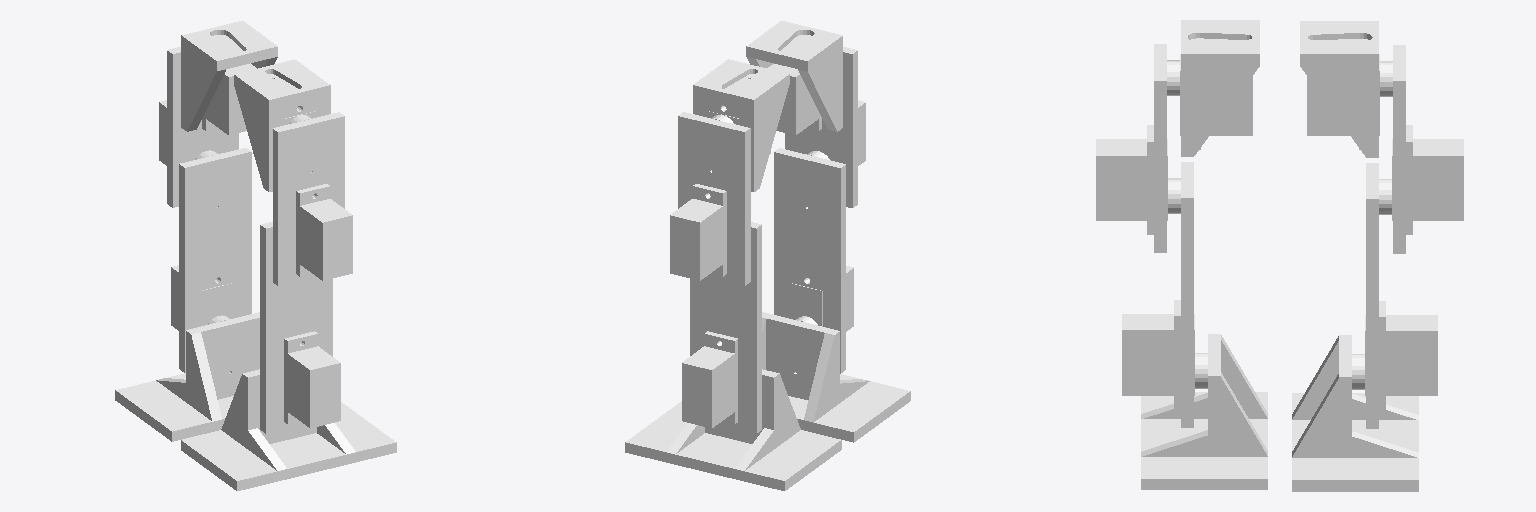
URDF robot description (2foot):
<?xml version="1.0" encoding="utf-8"?>
<!-- This URDF was automatically created by SolidWorks to URDF Exporter! Originally created by Stephen Brawner (brawner@gmail.com) 
     Commit Version: 1.6.0-4-g7f85cfe  Build Version: 1.6.7995.38578
     For more information, please see http://wiki.ros.org/sw_urdf_exporter -->
<robot
  name="2foot">
  <link
    name="head_link">
    <inertial>
      <origin
        xyz="0.00637927718522201 8.36838553548436E-05 0.0502679117290854"
        rpy="0 0 0" />
      <mass
        value="0.104147639434427" />
      <inertia
        ixx="0.000119888626287878"
        ixy="4.26649795023379E-08"
        ixz="-3.14056079328627E-06"
        iyy="9.2091610344693E-05"
        iyz="1.01375294153974E-07"
        izz="3.18810914232645E-05" />
    </inertial>
    <visual>
      <origin
        xyz="0 0 0"
        rpy="0 0 0" />
      <geometry>
        <mesh
          filename="package://2foot/meshes/head_link.STL" />
      </geometry>
      <material
        name="">
        <color
          rgba="1 1 1 1" />
      </material>
    </visual>
    <collision>
      <origin
        xyz="0 0 0"
        rpy="0 0 0" />
      <geometry>
        <mesh
          filename="package://2foot/meshes/head_link.STL" />
      </geometry>
    </collision>
  </link>
  <link
    name="lf0_link">
    <inertial>
      <origin
        xyz="2.5034674019167E-06 -0.00399152370097755 -0.0136055723537577"
        rpy="0 0 0" />
      <mass
        value="0.0155246301341258" />
      <inertia
        ixx="1.99164881392775E-06"
        ixy="-4.82887905395487E-10"
        ixz="-2.07253296776602E-10"
        iyy="2.02900387840545E-06"
        iyz="2.49004321417992E-07"
        izz="1.54078395860252E-06" />
    </inertial>
    <visual>
      <origin
        xyz="0 0 0"
        rpy="0 0 0" />
      <geometry>
        <mesh
          filename="package://2foot/meshes/lf0_link.STL" />
      </geometry>
      <material
        name="">
        <color
          rgba="1 1 1 1" />
      </material>
    </visual>
    <collision>
      <origin
        xyz="0 0 0"
        rpy="0 0 0" />
      <geometry>
        <mesh
          filename="package://2foot/meshes/lf0_link.STL" />
      </geometry>
    </collision>
  </link>
  <joint
    name="jlf0_link"
    type="revolute">
    <origin
      xyz="-0.0031441 0.025688 -0.006475"
      rpy="0 0 0" />
    <parent
      link="head_link" />
    <child
      link="lf0_link" />
    <axis
      xyz="0 0 -1" />
    <limit
      lower="0"
      upper="0"
      effort="0"
      velocity="0" />
  </joint>
  <link
    name="lf1_link">
    <inertial>
      <origin
        xyz="2.91696425805399E-06 0.004390376864982 -0.0296712953157869"
        rpy="0 0 0" />
      <mass
        value="0.013323922418148" />
      <inertia
        ixx="2.72143018103993E-06"
        ixy="4.82887905395412E-10"
        ixz="2.07253296776833E-10"
        iyy="2.92090153101514E-06"
        iyz="-3.25175555348237E-08"
        izz="9.23918900070304E-07" />
    </inertial>
    <visual>
      <origin
        xyz="0 0 0"
        rpy="0 0 0" />
      <geometry>
        <mesh
          filename="package://2foot/meshes/lf1_link.STL" />
      </geometry>
      <material
        name="">
        <color
          rgba="1 1 1 1" />
      </material>
    </visual>
    <collision>
      <origin
        xyz="0 0 0"
        rpy="0 0 0" />
      <geometry>
        <mesh
          filename="package://2foot/meshes/lf1_link.STL" />
      </geometry>
    </collision>
  </link>
  <joint
    name="jlf1_link"
    type="revolute">
    <origin
      xyz="9.7027E-05 0.011975 -0.012388"
      rpy="0 0 0" />
    <parent
      link="lf0_link" />
    <child
      link="lf1_link" />
    <axis
      xyz="0 -1 0" />
    <limit
      lower="0"
      upper="0"
      effort="0"
      velocity="0" />
  </joint>
  <link
    name="lf2_link">
    <inertial>
      <origin
        xyz="2.43737372657149E-06 0.00363613025354126 -0.0425732788173739"
        rpy="0 0 0" />
      <mass
        value="0.0159456077850123" />
      <inertia
        ixx="5.35424510746978E-06"
        ixy="4.82887905395677E-10"
        ixz="2.07253296776739E-10"
        iyy="5.71315402728463E-06"
        iyz="-2.13454759600996E-08"
        izz="1.09035404123551E-06" />
    </inertial>
    <visual>
      <origin
        xyz="0 0 0"
        rpy="0 0 0" />
      <geometry>
        <mesh
          filename="package://2foot/meshes/lf2_link.STL" />
      </geometry>
      <material
        name="">
        <color
          rgba="1 1 1 1" />
      </material>
    </visual>
    <collision>
      <origin
        xyz="0 0 0"
        rpy="0 0 0" />
      <geometry>
        <mesh
          filename="package://2foot/meshes/lf2_link.STL" />
      </geometry>
    </collision>
  </link>
  <joint
    name="jlf2_link"
    type="revolute">
    <origin
      xyz="9.7027E-05 -0.008475 -0.040938"
      rpy="0 0 0" />
    <parent
      link="lf1_link" />
    <child
      link="lf2_link" />
    <axis
      xyz="0 1 0" />
    <limit
      lower="0"
      upper="0"
      effort="0"
      velocity="0" />
  </joint>
  <link
    name="lf3_link">
    <inertial>
      <origin
        xyz="-4.82253126321552E-16 -0.000451394188820231 -0.0198245674059442"
        rpy="0 0 0" />
      <mass
        value="0.0192906631601767" />
      <inertia
        ixx="3.18209633375994E-06"
        ixy="3.34527248954873E-21"
        ixz="1.76056444695768E-21"
        iyy="6.55022061625284E-06"
        iyz="2.53604908486043E-07"
        izz="7.24649308736933E-06" />
    </inertial>
    <visual>
      <origin
        xyz="0 0 0"
        rpy="0 0 0" />
      <geometry>
        <mesh
          filename="package://2foot/meshes/lf3_link.STL" />
      </geometry>
      <material
        name="">
        <color
          rgba="1 1 1 1" />
      </material>
    </visual>
    <collision>
      <origin
        xyz="0 0 0"
        rpy="0 0 0" />
      <geometry>
        <mesh
          filename="package://2foot/meshes/lf3_link.STL" />
      </geometry>
    </collision>
  </link>
  <joint
    name="jlf3_link"
    type="revolute">
    <origin
      xyz="9.7027E-05 -0.006475 -0.060937"
      rpy="0 0 0" />
    <parent
      link="lf2_link" />
    <child
      link="lf3_link" />
    <axis
      xyz="0 -1 0" />
    <limit
      lower="0"
      upper="0"
      effort="0"
      velocity="0" />
  </joint>
  <link
    name="rf0_link">
    <inertial>
      <origin
        xyz="-2.50346740203813E-06 0.00399152370097733 -0.0136055723537577"
        rpy="0 0 0" />
      <mass
        value="0.0155246301341258" />
      <inertia
        ixx="1.99164881392775E-06"
        ixy="-4.82887905395413E-10"
        ixz="2.07253296776268E-10"
        iyy="2.02900387840545E-06"
        iyz="-2.49004321417992E-07"
        izz="1.54078395860252E-06" />
    </inertial>
    <visual>
      <origin
        xyz="0 0 0"
        rpy="0 0 0" />
      <geometry>
        <mesh
          filename="package://2foot/meshes/rf0_link.STL" />
      </geometry>
      <material
        name="">
        <color
          rgba="1 1 1 1" />
      </material>
    </visual>
    <collision>
      <origin
        xyz="0 0 0"
        rpy="0 0 0" />
      <geometry>
        <mesh
          filename="package://2foot/meshes/rf0_link.STL" />
      </geometry>
    </collision>
  </link>
  <joint
    name="jrf0_link"
    type="revolute">
    <origin
      xyz="-0.0033382 -0.025687 -0.006475"
      rpy="0 0 0" />
    <parent
      link="head_link" />
    <child
      link="rf0_link" />
    <axis
      xyz="0 0 -1" />
    <limit
      lower="0"
      upper="0"
      effort="0"
      velocity="0" />
  </joint>
  <link
    name="rf1_link">
    <inertial>
      <origin
        xyz="-2.91696425855359E-06 -0.00439037686498245 -0.0296712953157865"
        rpy="0 0 0" />
      <mass
        value="0.0133239224181479" />
      <inertia
        ixx="2.72143018103992E-06"
        ixy="4.82887905395081E-10"
        ixz="-2.07253296776895E-10"
        iyy="2.92090153101514E-06"
        iyz="3.25175555348265E-08"
        izz="9.23918900070297E-07" />
    </inertial>
    <visual>
      <origin
        xyz="0 0 0"
        rpy="0 0 0" />
      <geometry>
        <mesh
          filename="package://2foot/meshes/rf1_link.STL" />
      </geometry>
      <material
        name="">
        <color
          rgba="1 1 1 1" />
      </material>
    </visual>
    <collision>
      <origin
        xyz="0 0 0"
        rpy="0 0 0" />
      <geometry>
        <mesh
          filename="package://2foot/meshes/rf1_link.STL" />
      </geometry>
    </collision>
  </link>
  <joint
    name="jrf1_link"
    type="revolute">
    <origin
      xyz="-9.7027E-05 -0.011975 -0.012388"
      rpy="0 0 0" />
    <parent
      link="rf0_link" />
    <child
      link="rf1_link" />
    <axis
      xyz="0 1 0" />
    <limit
      lower="0"
      upper="0"
      effort="0"
      velocity="0" />
  </joint>
  <link
    name="rf2_link">
    <inertial>
      <origin
        xyz="-2.43737372681782E-06 -0.00363613025354104 -0.0425732788173739"
        rpy="0 0 0" />
      <mass
        value="0.0159456077850122" />
      <inertia
        ixx="5.35424510746977E-06"
        ixy="4.82887905394926E-10"
        ixz="-2.0725329677683E-10"
        iyy="5.71315402728462E-06"
        iyz="2.13454759600991E-08"
        izz="1.0903540412355E-06" />
    </inertial>
    <visual>
      <origin
        xyz="0 0 0"
        rpy="0 0 0" />
      <geometry>
        <mesh
          filename="package://2foot/meshes/rf2_link.STL" />
      </geometry>
      <material
        name="">
        <color
          rgba="1 1 1 1" />
      </material>
    </visual>
    <collision>
      <origin
        xyz="0 0 0"
        rpy="0 0 0" />
      <geometry>
        <mesh
          filename="package://2foot/meshes/rf2_link.STL" />
      </geometry>
    </collision>
  </link>
  <joint
    name="jrf2_link"
    type="revolute">
    <origin
      xyz="-9.7027E-05 0.008475 -0.040937"
      rpy="0 0 0" />
    <parent
      link="rf1_link" />
    <child
      link="rf2_link" />
    <axis
      xyz="0 1 0" />
    <limit
      lower="0"
      upper="0"
      effort="0"
      velocity="0" />
  </joint>
  <link
    name="rf3_link">
    <inertial>
      <origin
        xyz="8.18789480661053E-16 0.000451394188820897 -0.0198245674059443"
        rpy="0 0 0" />
      <mass
        value="0.0192906631601768" />
      <inertia
        ixx="3.18209633375994E-06"
        ixy="8.58350838304875E-21"
        ixz="2.39867798130625E-21"
        iyy="6.55022061625285E-06"
        iyz="-2.53604908486041E-07"
        izz="7.24649308736931E-06" />
    </inertial>
    <visual>
      <origin
        xyz="0 0 0"
        rpy="0 0 0" />
      <geometry>
        <mesh
          filename="package://2foot/meshes/rf3_link.STL" />
      </geometry>
      <material
        name="">
        <color
          rgba="1 1 1 1" />
      </material>
    </visual>
    <collision>
      <origin
        xyz="0 0 0"
        rpy="0 0 0" />
      <geometry>
        <mesh
          filename="package://2foot/meshes/rf3_link.STL" />
      </geometry>
    </collision>
  </link>
  <joint
    name="jrf3_link"
    type="revolute">
    <origin
      xyz="-9.7027E-05 0.006475 -0.060938"
      rpy="0 0 0" />
    <parent
      link="rf2_link" />
    <child
      link="rf3_link" />
    <axis
      xyz="0 1 0" />
    <limit
      lower="0"
      upper="0"
      effort="0"
      velocity="0" />
  </joint>
</robot>

--- Render facts (derived) ---
Views: 3 orthographic renders of the robot side by side, from view 1: azimuth 30°, elevation 25°; view 2: azimuth 150°, elevation 25°; view 3: azimuth 270°, elevation 25°.
Model 2foot with 9 links and 8 joints (8 revolute), rooted at head_link, posed all joints at 0.
Visible links, largest first — view 1: lf2_link, rf1_link, rf2_link, rf3_link, lf3_link, lf0_link, rf0_link, lf1_link; view 2: rf2_link, lf1_link, lf2_link, lf3_link, rf3_link, rf0_link, lf0_link, rf1_link; view 3: lf3_link, rf3_link, rf0_link, lf0_link, rf2_link, lf2_link, lf1_link, rf1_link.
Boxes of the visible links, box(x1,y1,x2,y2) form: lf2_link: box(171, 148, 251, 372); rf1_link: box(273, 112, 352, 285); rf2_link: box(260, 222, 340, 433); rf3_link: box(181, 369, 396, 490); lf3_link: box(115, 312, 259, 441); lf0_link: box(181, 21, 277, 134); rf0_link: box(234, 59, 330, 191); lf1_link: box(159, 47, 238, 207); rf2_link: box(774, 148, 853, 373); lf1_link: box(670, 112, 750, 285); lf2_link: box(682, 222, 761, 433); lf3_link: box(625, 369, 841, 490); rf3_link: box(762, 312, 910, 442); rf0_link: box(746, 21, 842, 135); lf0_link: box(693, 59, 789, 191); rf1_link: box(785, 47, 865, 207); lf3_link: box(1292, 335, 1418, 491); rf3_link: box(1141, 334, 1267, 489); rf0_link: box(1167, 20, 1259, 156); lf0_link: box(1300, 21, 1392, 157); rf2_link: box(1122, 162, 1207, 427); lf2_link: box(1352, 163, 1437, 428); lf1_link: box(1379, 45, 1463, 253); rf1_link: box(1096, 44, 1180, 252).
Size in the robot's own frame: 0.0658 by 0.1164 by 0.1428 metres.
8 mesh visuals loaded from 9 distinct referenced files (8 binary STL); not drawn: 1 (reference not matched to a file when rendering).
